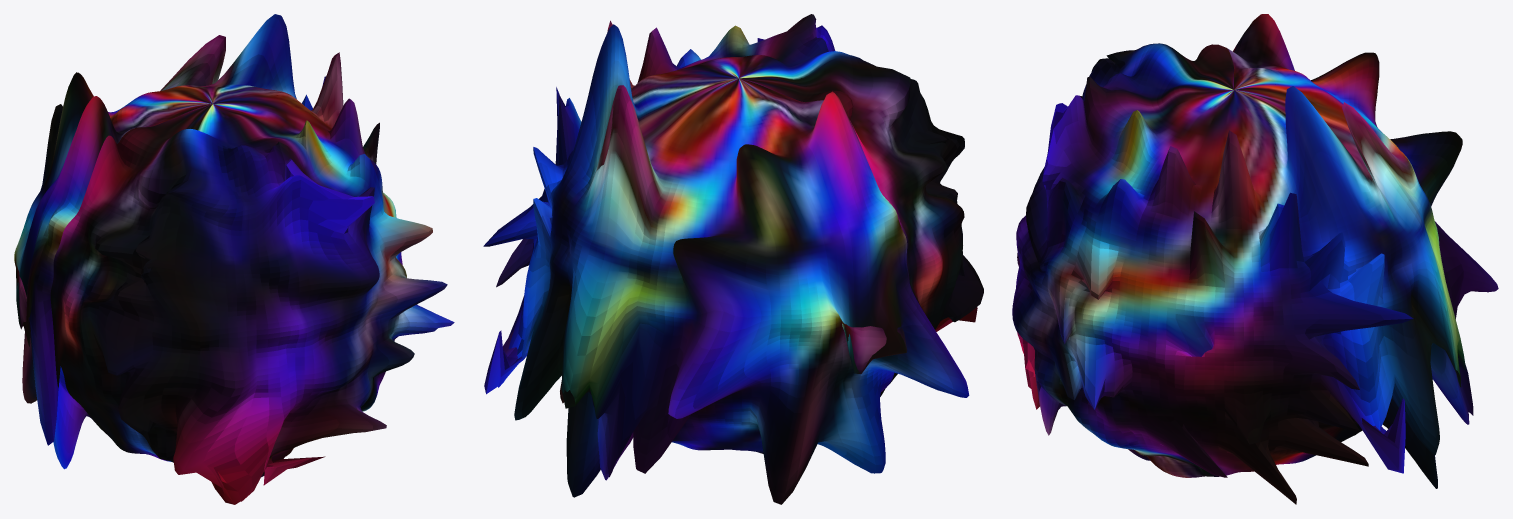
Rendered from vitesse_sphere_2.glb.
The picture shows the model from 3 angles, left to right: view 1: azimuth 30°, elevation 25°; view 2: azimuth 150°, elevation 25°; view 3: azimuth 270°, elevation 25°; orthographic projection. The views are drawn at different scales.
Parts seen in each view (by area): view 1: Sphere; view 2: Sphere; view 3: Sphere.
Boxes of the visible parts, left/top/right/bottom form: Sphere: left=14, top=14, right=454, bottom=504; Sphere: left=483, top=14, right=983, bottom=504; Sphere: left=1012, top=14, right=1498, bottom=504.
Size of the model in its own units: 2.3 by 2.35 by 2.47.
1 material, 1 textured.
